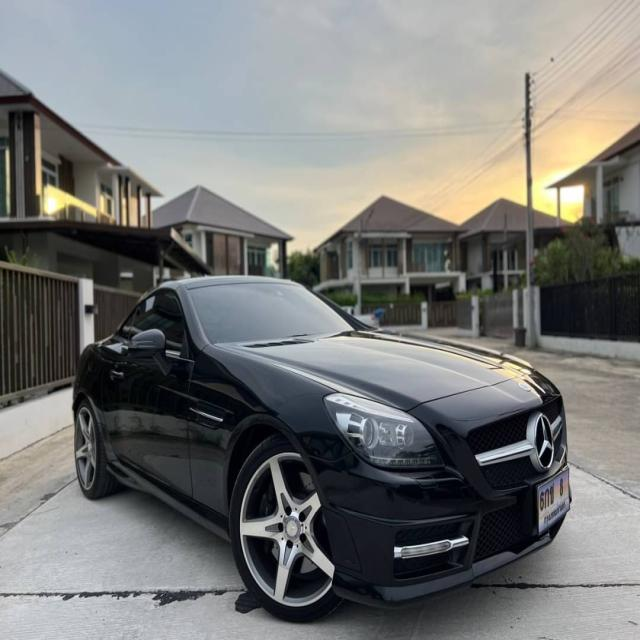license_plate: (530, 465, 573, 546)
